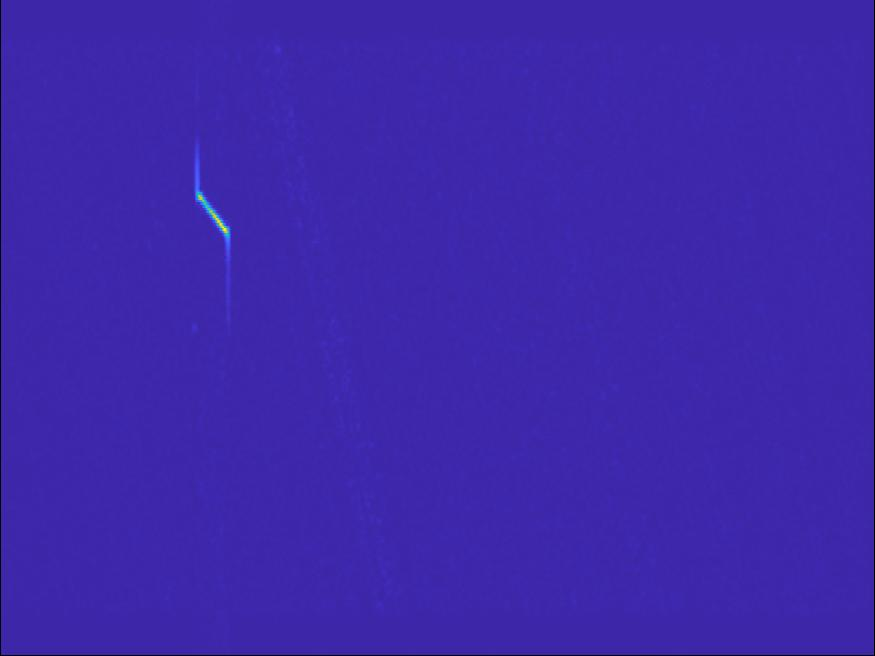Interference: (596, 386, 796, 552), (665, 177, 818, 302)
